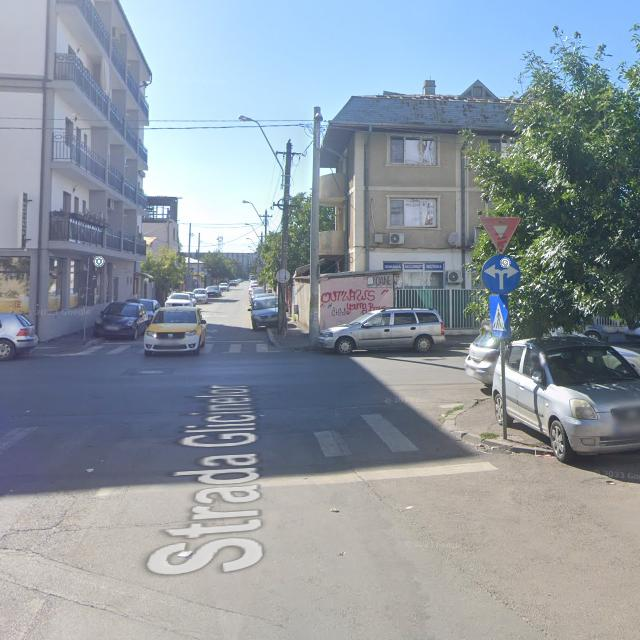info_crosswalk: (489, 296, 510, 338)
mand_left_right: (481, 254, 521, 295)
prio_give_way: (480, 216, 521, 254)
